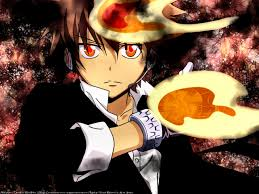Tsuna: (63, 3, 164, 101)
